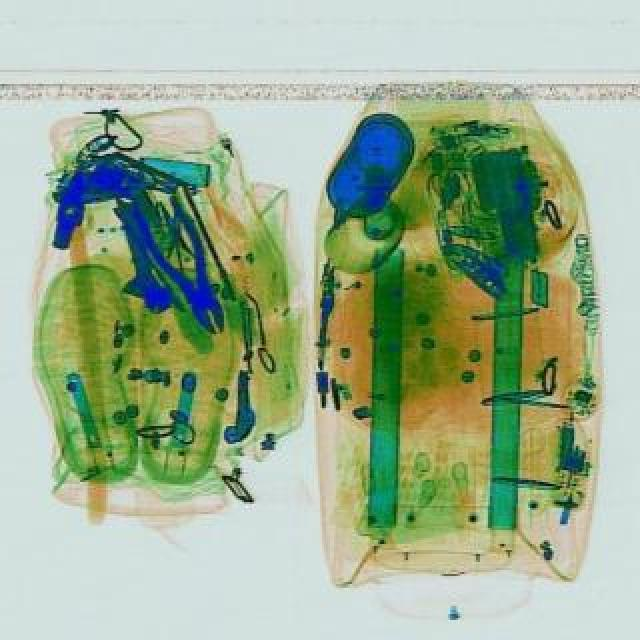scissors: (100, 184, 176, 316)
wrench: (126, 186, 244, 344)
